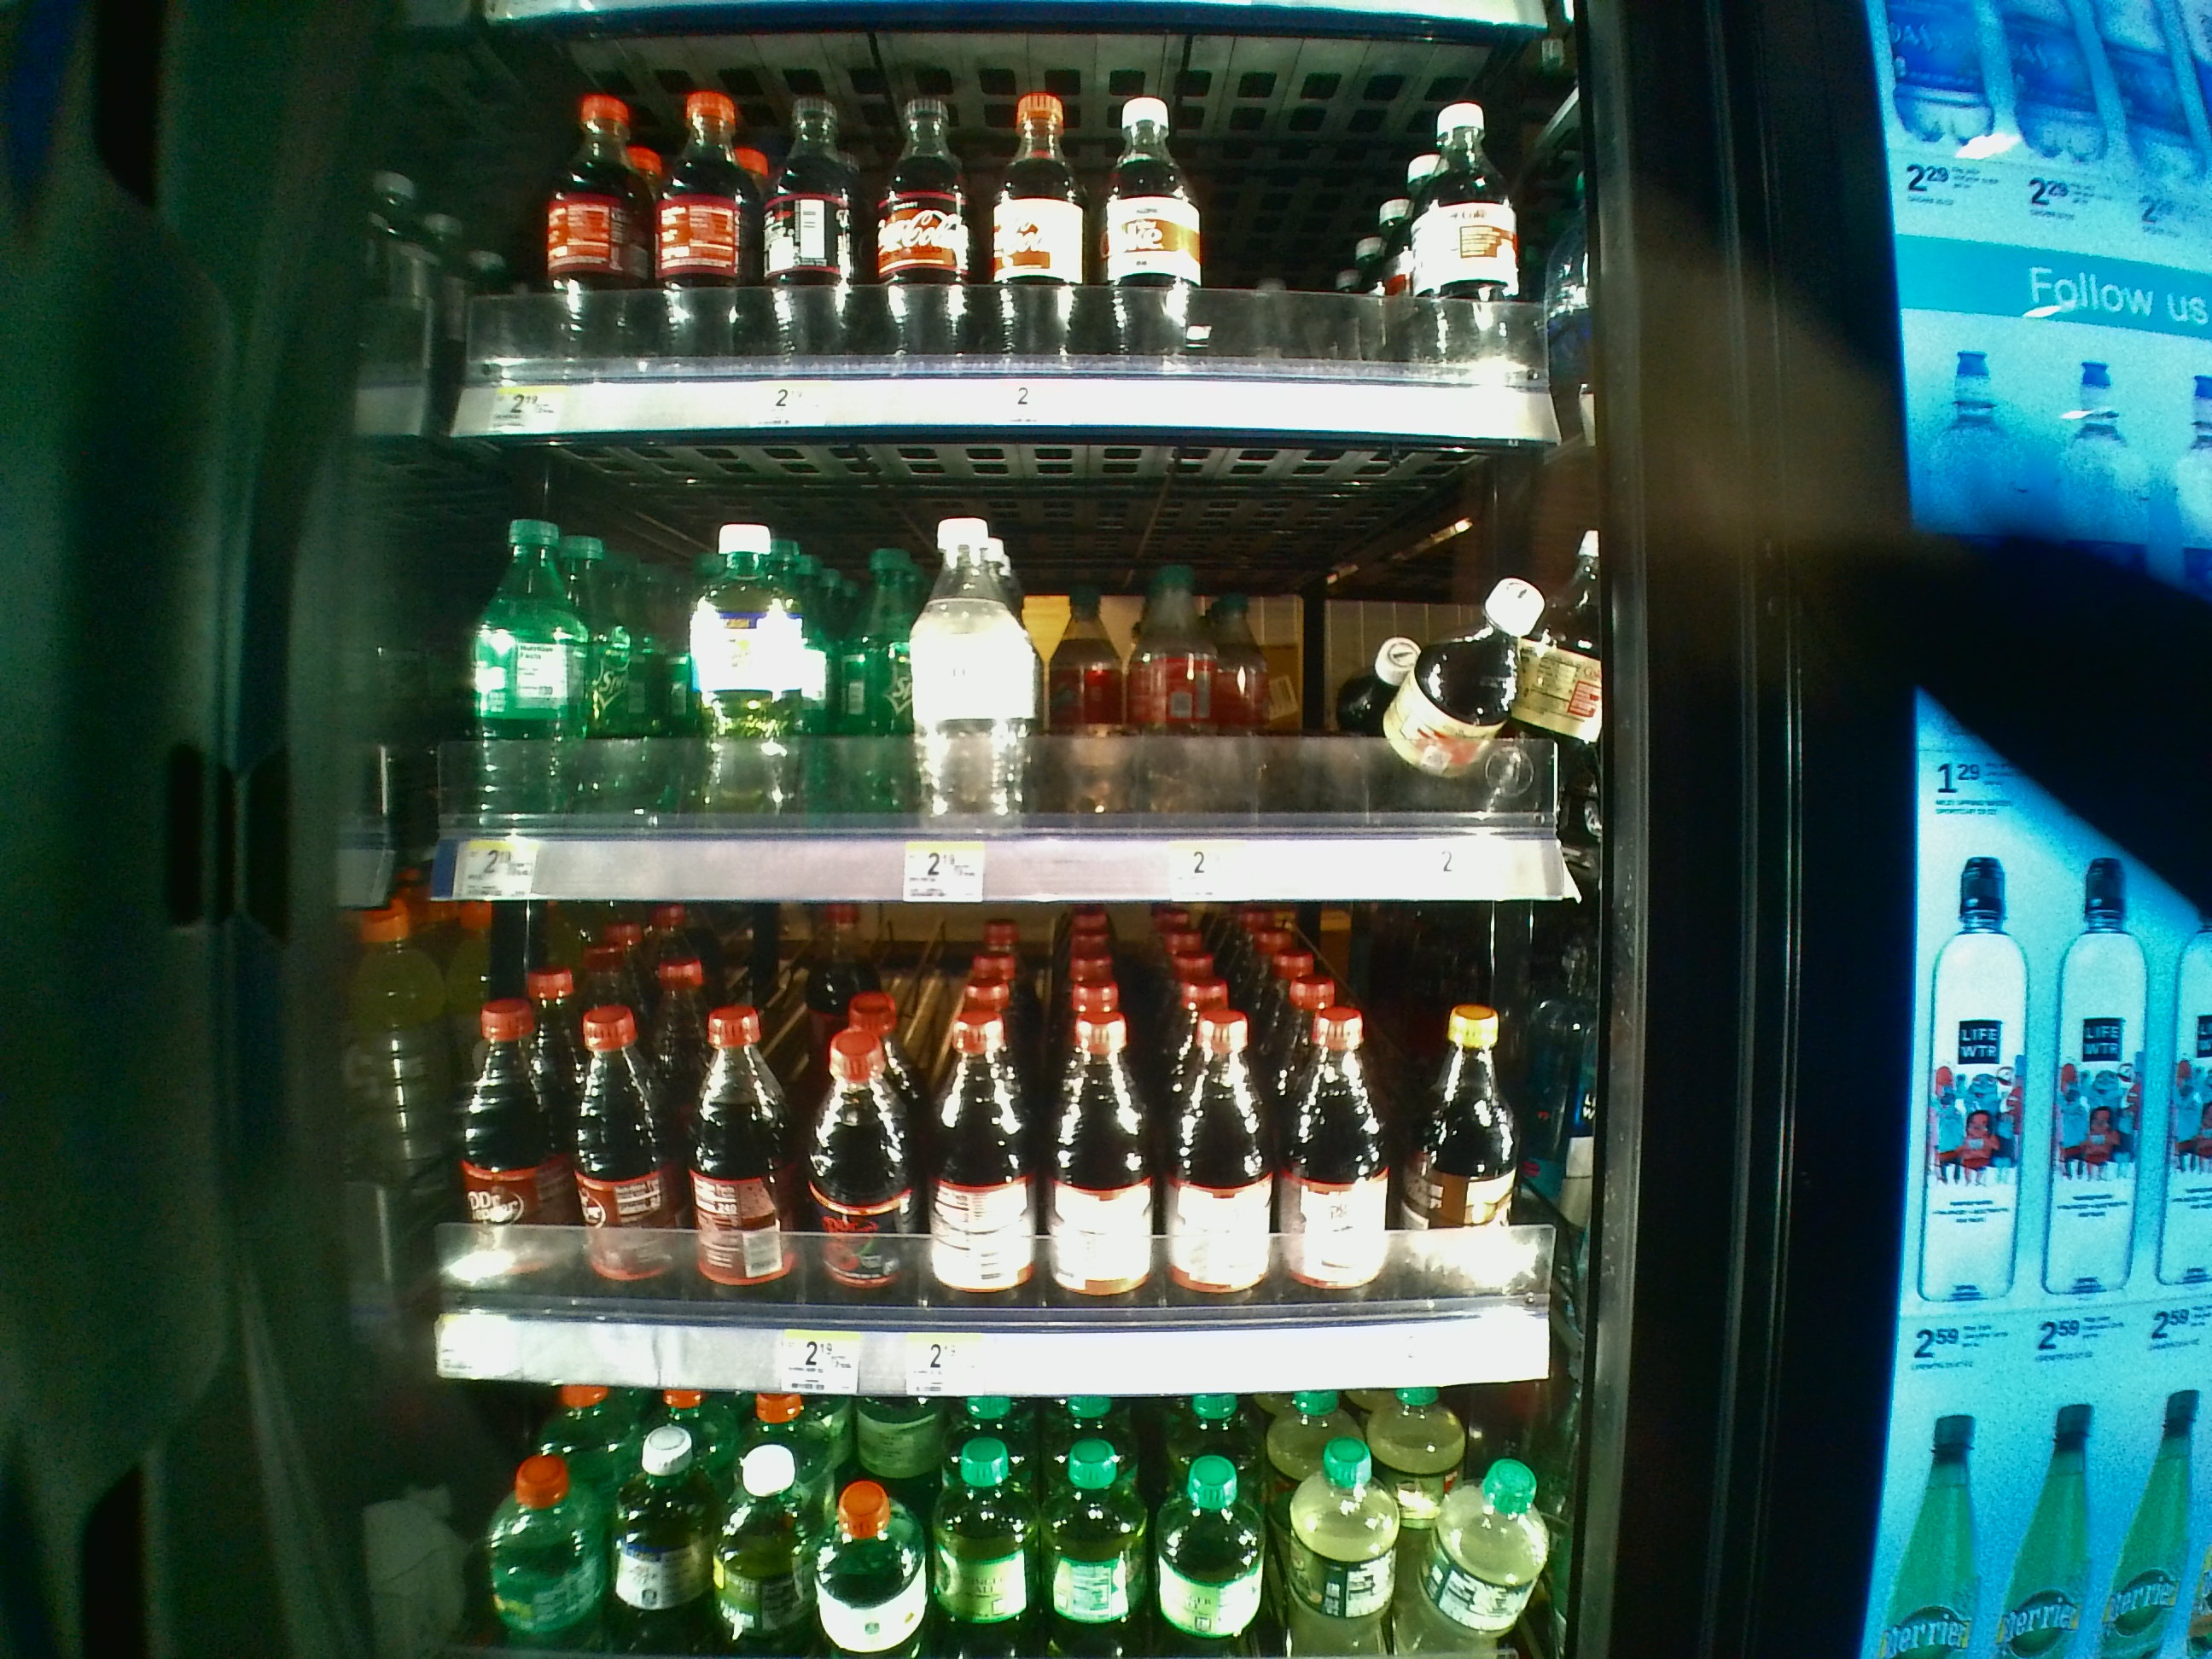shelf: (421, 903, 1639, 1394), (428, 437, 1641, 904)
